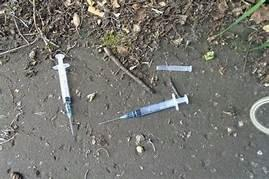Syringe: (92, 90, 192, 127), (46, 50, 80, 141)
